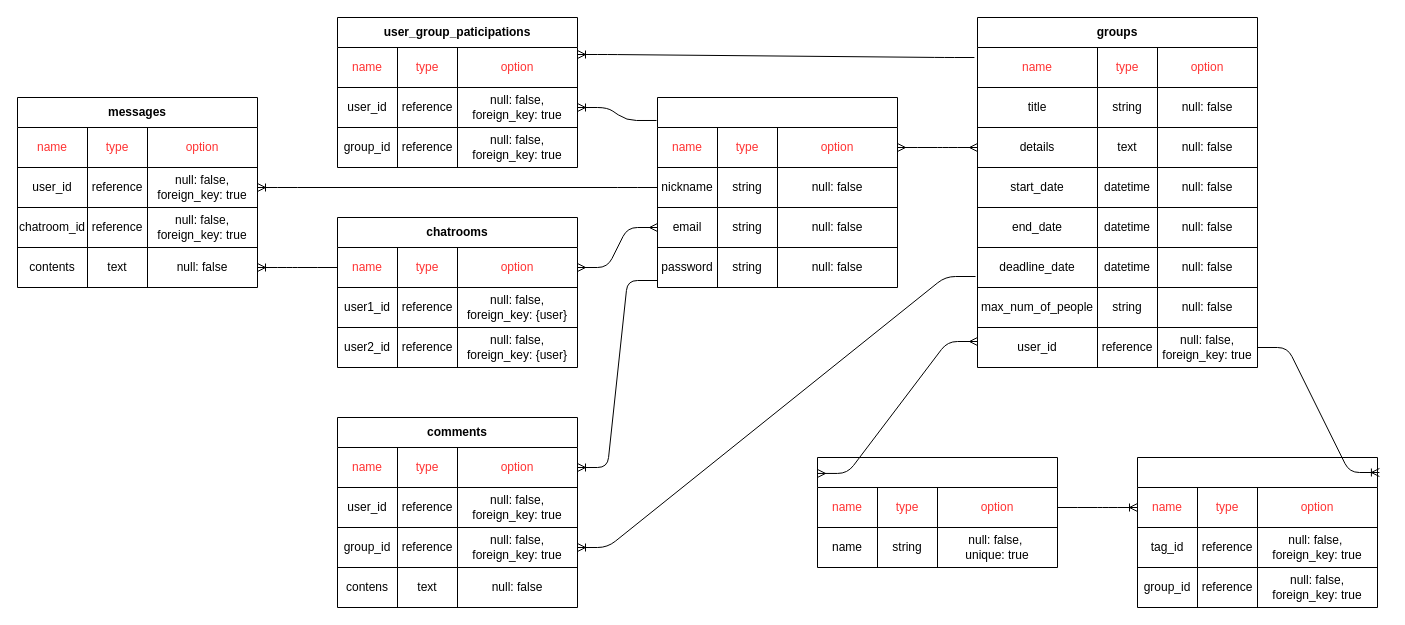
The diagram is 1405 pixels wide and 625 high, and some of its shapes have lost their labels. Each missing label, with the box of its shape:
tag_group_relations: (1136, 456, 1378, 608)
tags: (816, 456, 1058, 568)
users: (656, 96, 898, 288)
